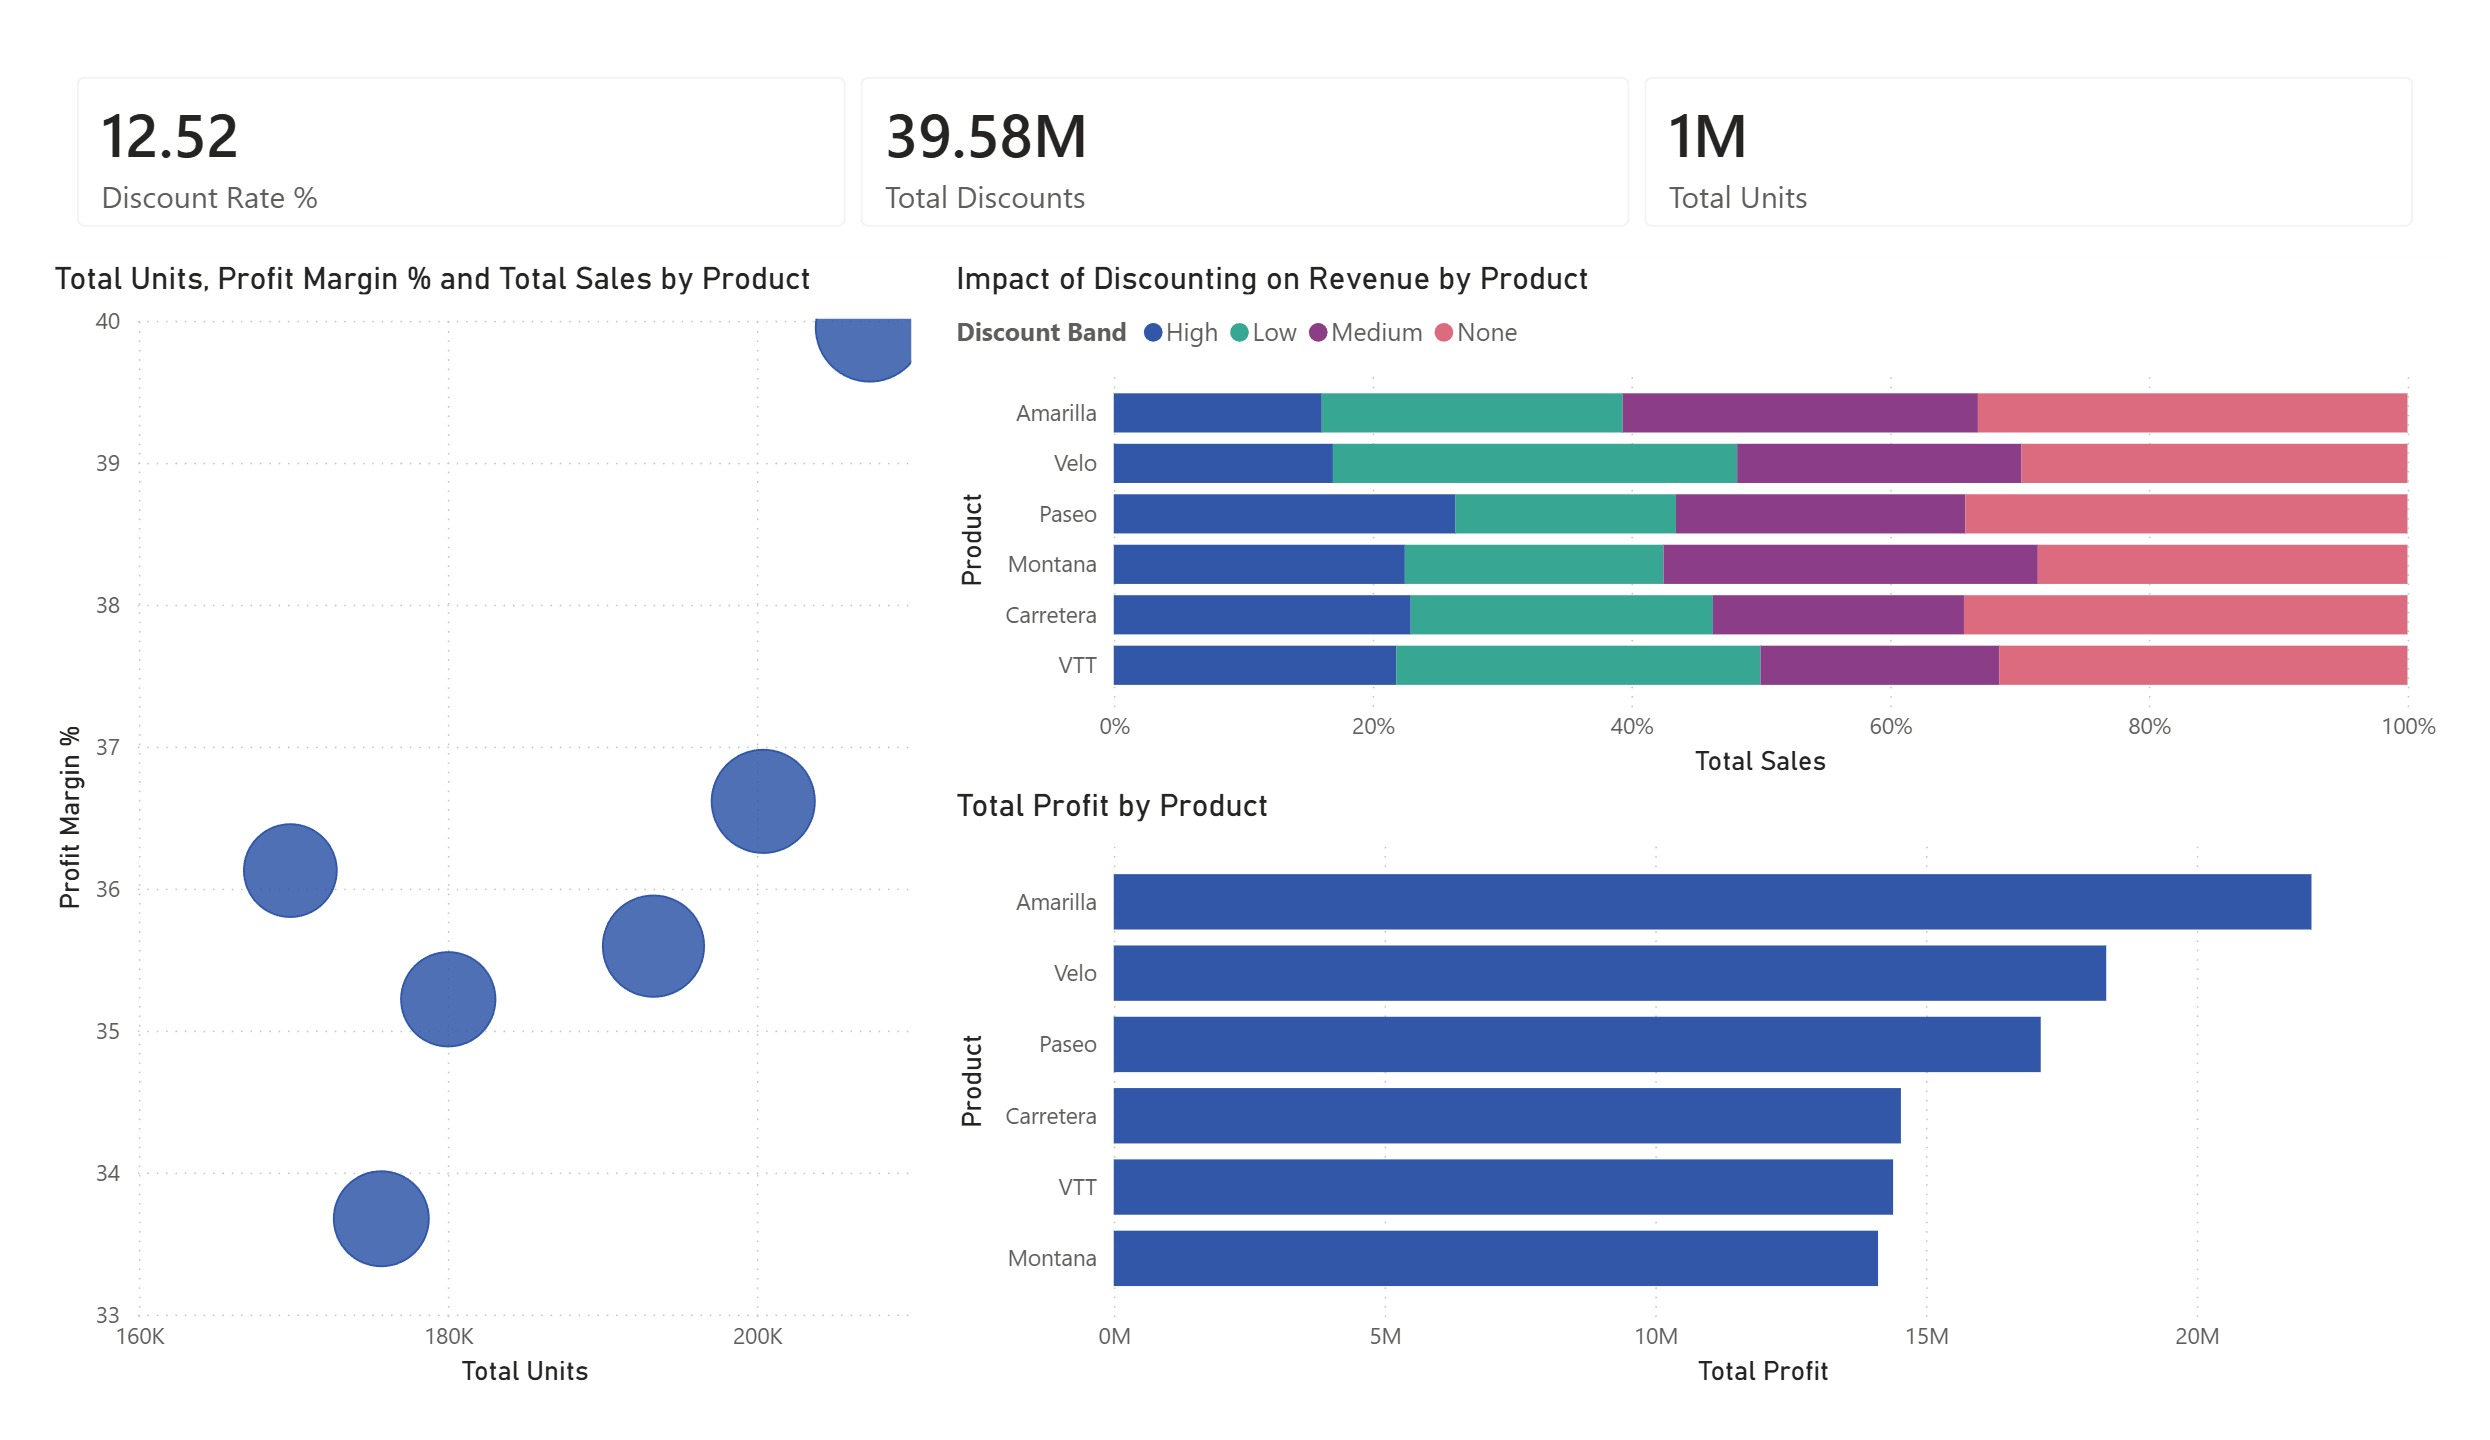

The dashboard page shown, as its layout file describes it:
{"tool":"powerbi","page":{"name":"Product Analysis","canvas":[1280,720],"ordinal":2},"visuals":[{"type":"barChart","fields":{"Category":["Financial_Sample_Cleaned.Product"],"Y":["Financial_Sample_Cleaned.Total Profit"]},"box":[481.5,394.6,798.9,325.4],"z":0},{"type":"scatterChart","fields":{"X":["Financial_Sample_Cleaned.Total Units"],"Y":["Financial_Sample_Cleaned.Profit Margin %"],"Category":["Financial_Sample_Cleaned.Product"],"Size":["Financial_Sample_Cleaned.Total Sales"]},"box":[0,114.4,481.5,605.6],"z":1},{"type":"hundredPercentStackedBarChart","title":"Impact of Discounting on Revenue by Product","fields":{"Y":["Financial_Sample_Cleaned.Total Sales"],"Category":["Financial_Sample_Cleaned.Product"],"Series":["Financial_Sample_Cleaned.Discount Band"]},"box":[481.5,114.4,798.9,280.2],"z":2},{"type":"cardVisual","fields":{"Data":["Financial_Sample_Cleaned.Discount Rate %","Financial_Sample_Cleaned.Total Discounts","Financial_Sample_Cleaned.Total Units"]},"box":[0,0,1280.4,114.4],"z":3}]}

Visuals, with their boxes in screenshot pixels (x1, y1, x2, y2), scaled from the page's 1280x720 canvas onto the 2490x1440 screenshot:
barChart - Financial_Sample_Cleaned.Product x Financial_Sample_Cleaned.Total Profit: bbox=[937, 789, 2489, 1439]
scatterChart - Financial_Sample_Cleaned.Total Units x Financial_Sample_Cleaned.Profit Margin %: bbox=[0, 229, 937, 1439]
"Impact of Discounting on Revenue by Product" hundredPercentStackedBarChart: bbox=[937, 229, 2489, 789]
cardVisual - Financial_Sample_Cleaned.Discount Rate % x Financial_Sample_Cleaned.Total Discounts: bbox=[0, 0, 2489, 229]
